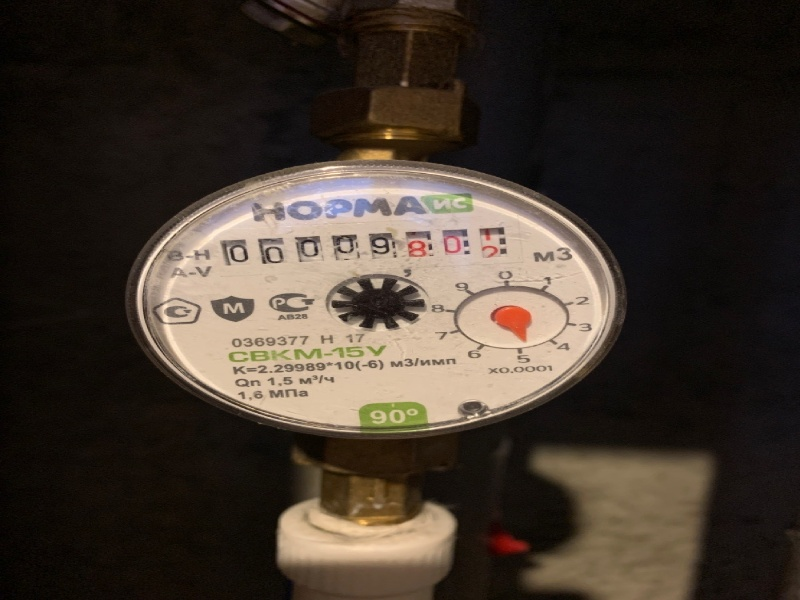meter: (219, 226, 523, 263)
